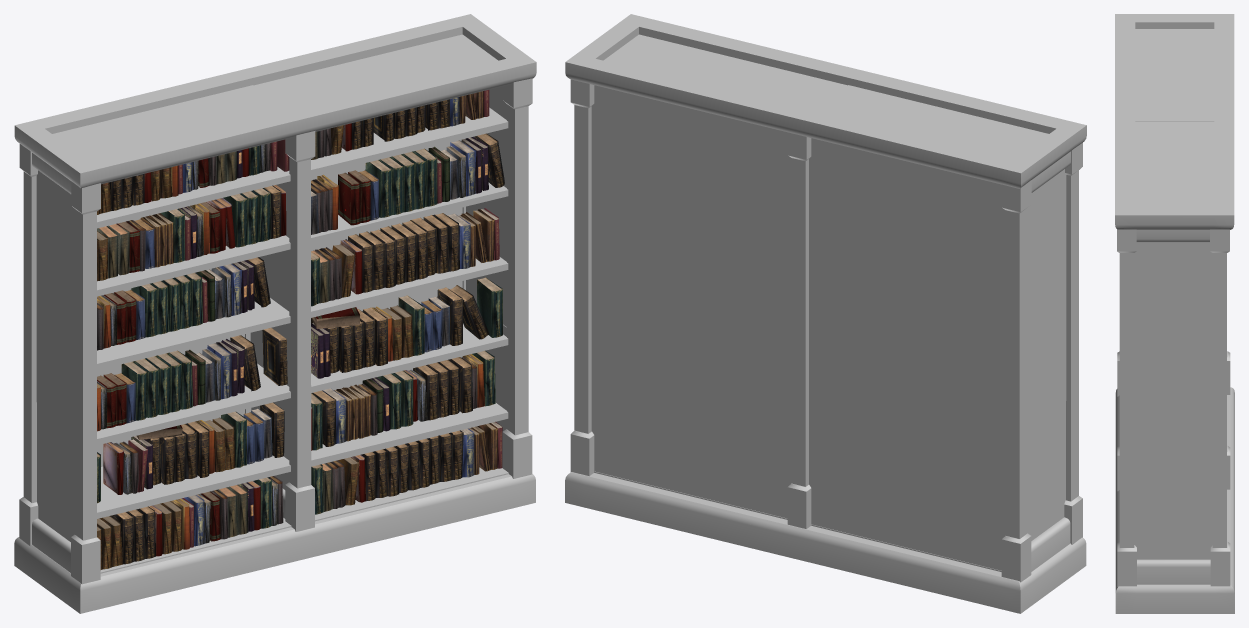
Rendered from BookCase05.fbx.
3 views of the same model, side by side, from view 1: azimuth 30°, elevation 25°; view 2: azimuth 150°, elevation 25°; view 3: azimuth 270°, elevation 25° (orthographic). The views are drawn at different scales.
Parts seen in each view (by area): view 1: Bookcase_06, Book_06_20; view 2: Bookcase_06; view 3: Bookcase_06.
Part boxes in pixels (x1,y1,x2,y2): Bookcase_06: [14, 14, 536, 613]; Book_06_20: [97, 90, 504, 569]; Bookcase_06: [565, 14, 1086, 613]; Bookcase_06: [1115, 14, 1234, 613].
Size of the model in its own units: 272 by 251 by 68.35.
